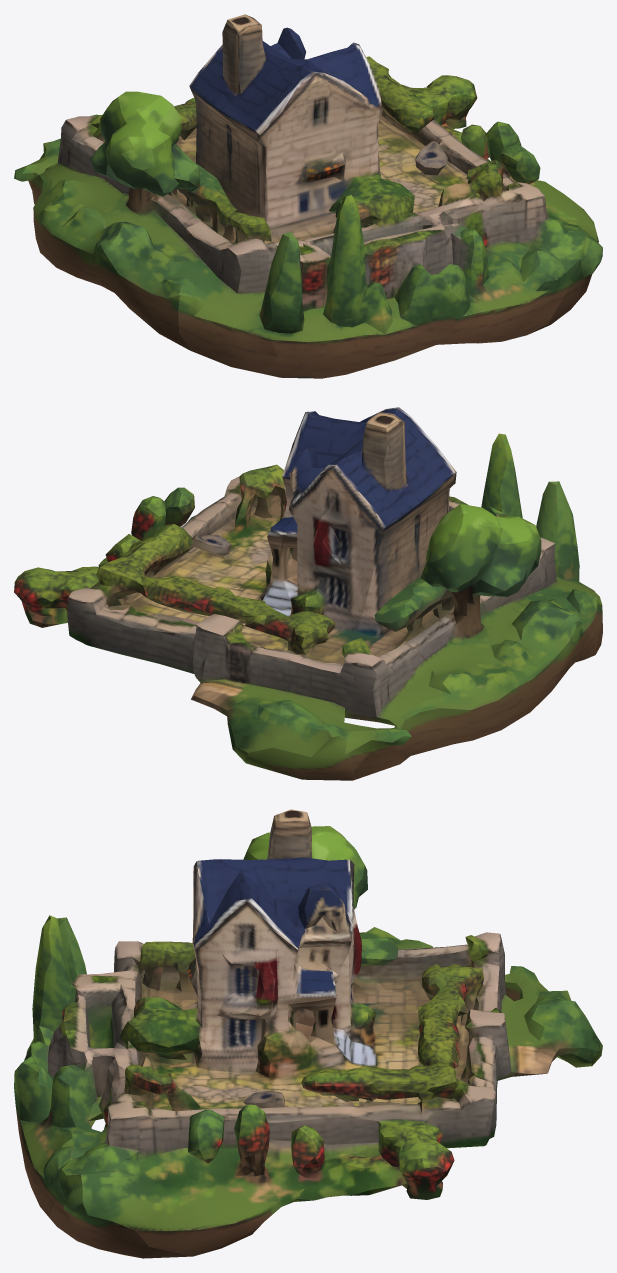
The model's file is house-vineyard-manor.glb.
3 views of the same model, one above another, from view 1: azimuth 30°, elevation 25°; view 2: azimuth 150°, elevation 25°; view 3: azimuth 270°, elevation 25° (orthographic). The views are drawn at different scales.
Parts seen in each view (by area): view 1: geometry_0; view 2: geometry_0; view 3: geometry_0.
Part boxes in pixels (x1,y1,x2,y2): geometry_0: (14,14,602,378); geometry_0: (14,407,602,780); geometry_0: (14,809,602,1258).
Bounding box in the file's own units: 1 × 0.5654 × 0.9923.
Materials: 1 (1 with a texture image).
